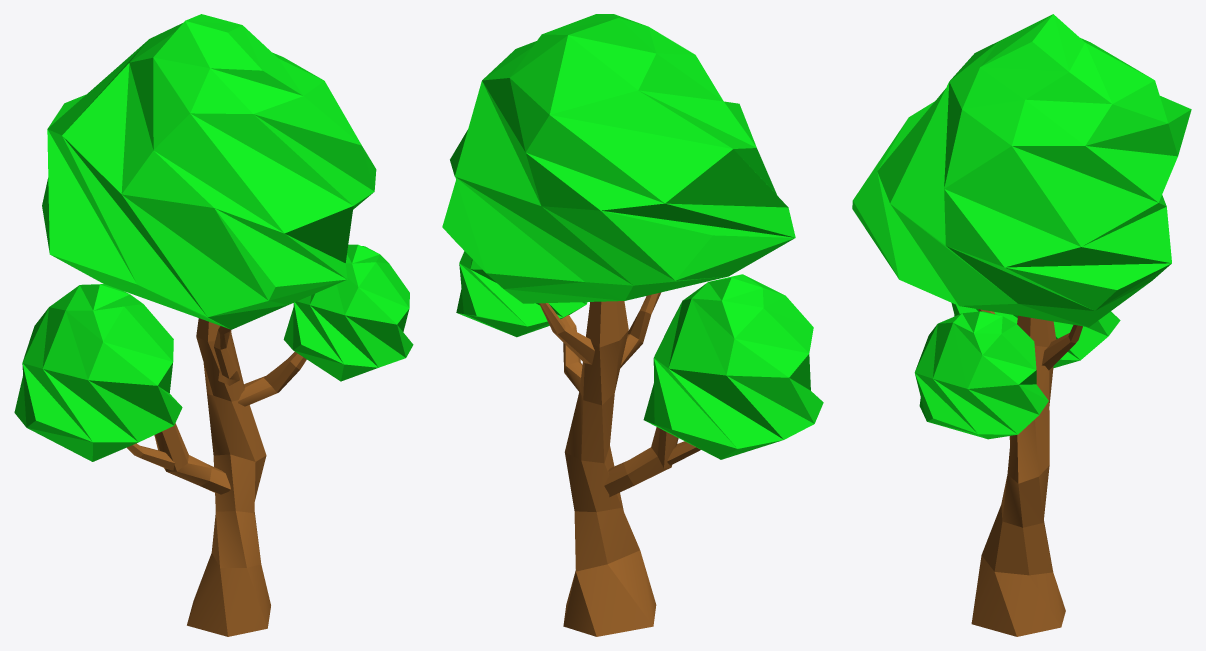
Rendered from tree_thick_1.gltf.
3 views of the same model, side by side, from view 1: azimuth 30°, elevation 25°; view 2: azimuth 150°, elevation 25°; view 3: azimuth 270°, elevation 25° (orthographic). The views are drawn at different scales.
Parts seen in each view (by area): view 1: lowpolytrees.153; view 2: lowpolytrees.153; view 3: lowpolytrees.153.
Part boxes in pixels (left/top/right/bottom): lowpolytrees.153: left=14, top=14, right=413, bottom=636; lowpolytrees.153: left=442, top=14, right=823, bottom=636; lowpolytrees.153: left=852, top=14, right=1191, bottom=636.
Bounding box in the file's own units: 38.14 × 60.43 × 31.52.
